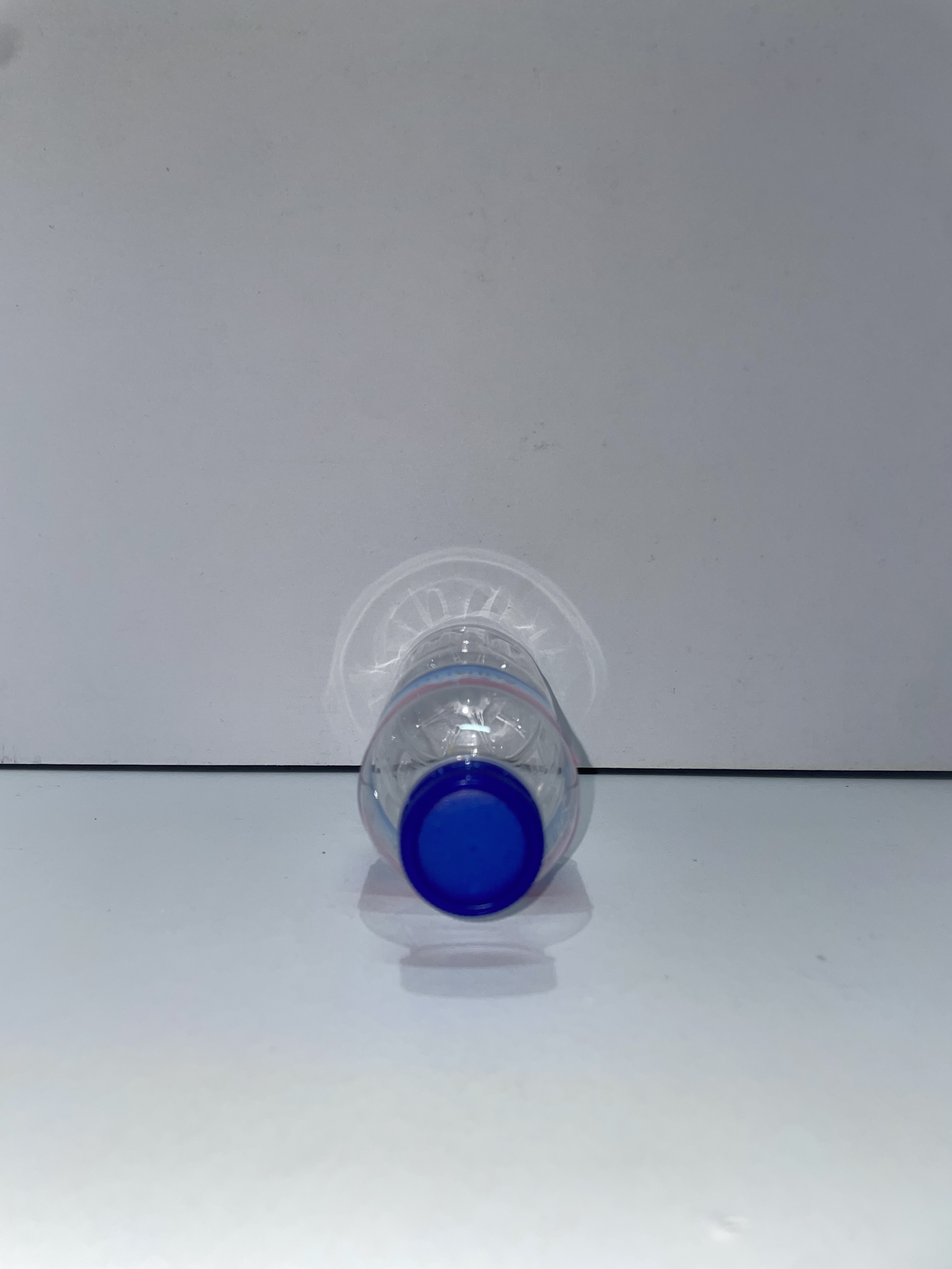Aqua Life 350ml: (360, 624, 578, 918)
